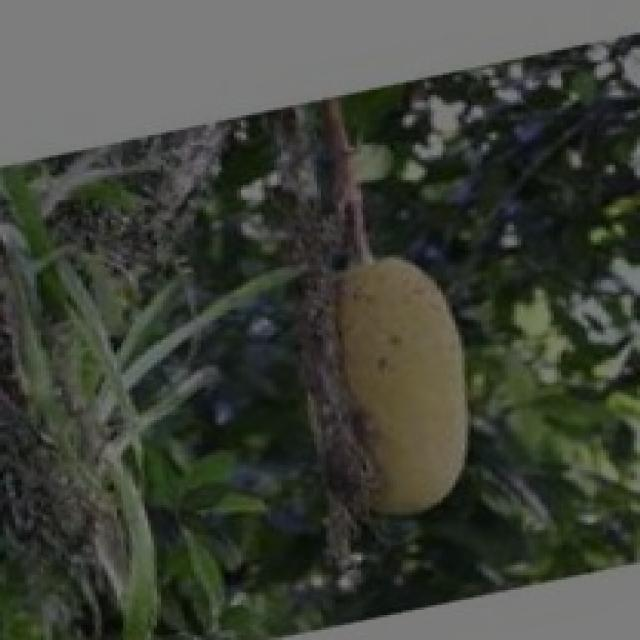Fruit: (286, 228, 520, 562)
